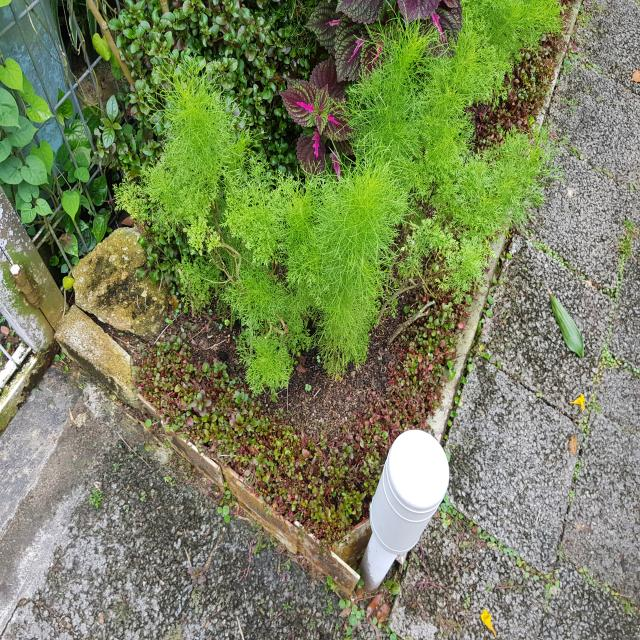Coleus: (288, 66, 362, 155)
Dill: (383, 63, 547, 226), (154, 120, 263, 343), (300, 203, 432, 373)
